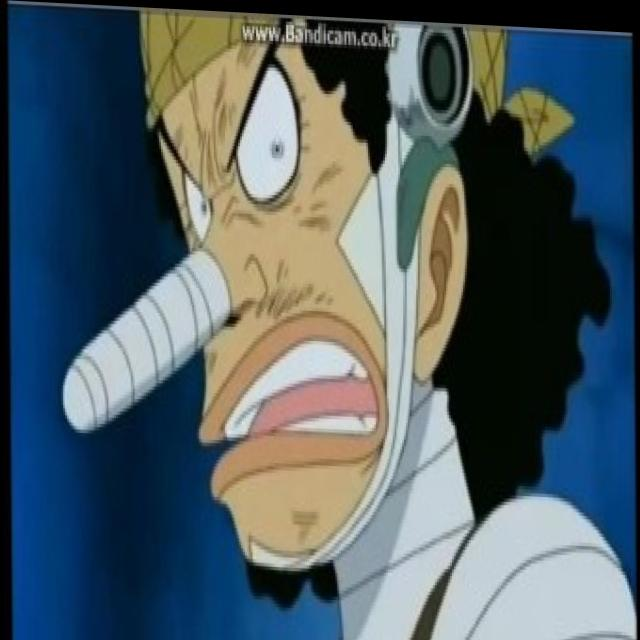Usopp: (54, 2, 588, 566)
